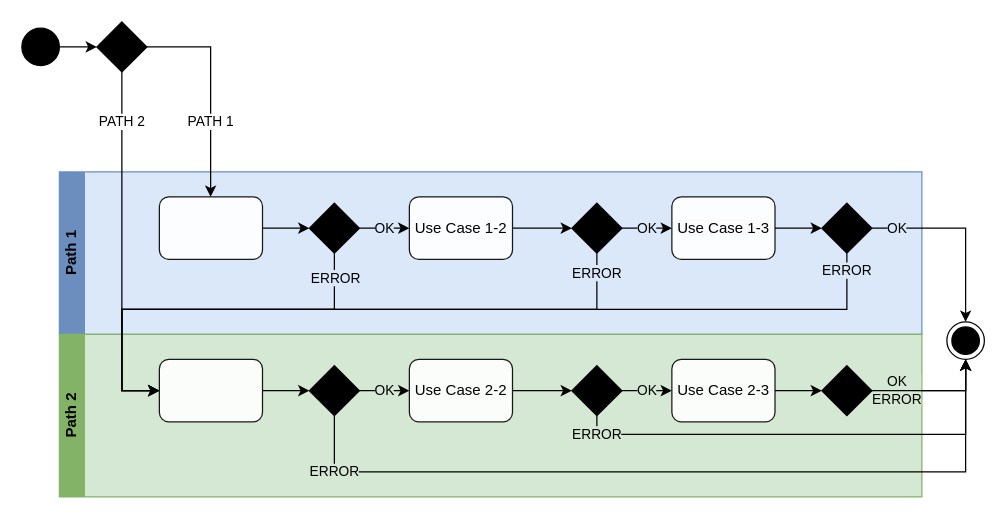
This 1006x519 diagram has some shape labels left out. Here are the shapes that lost their labels. From the top down, the box of each, then its label:
(158, 196, 262, 259): Use Case 1-1
(158, 358, 262, 422): Use Case 2-1
